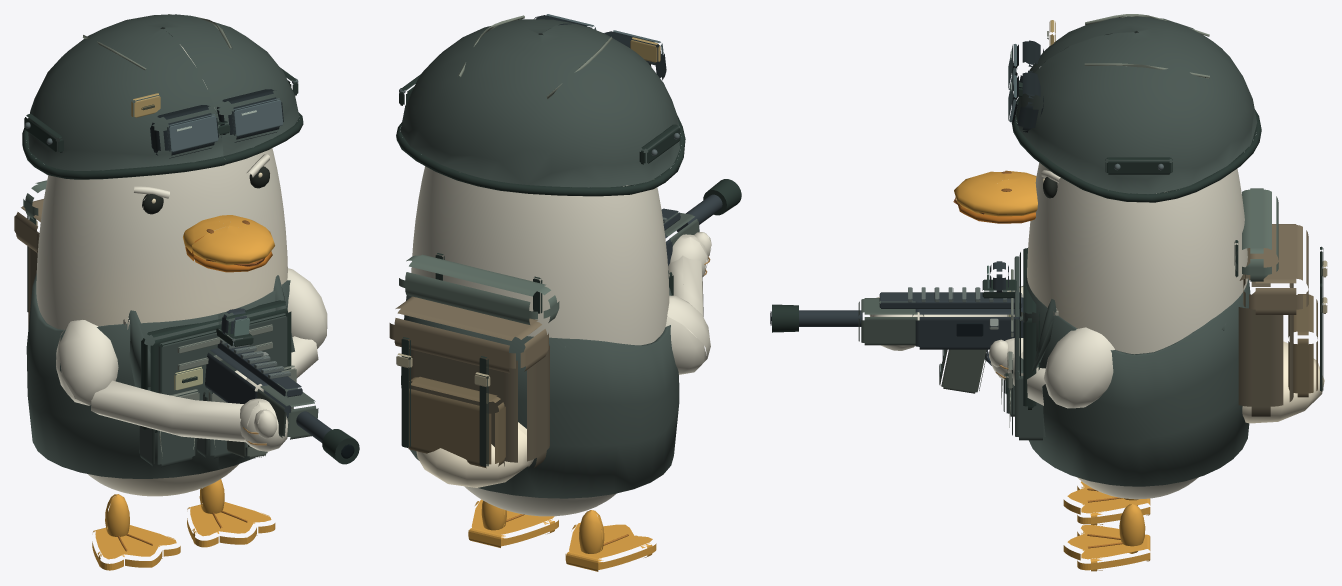
File: goose.glb
3 views of the same model, side by side, from view 1: azimuth 30°, elevation 25°; view 2: azimuth 150°, elevation 25°; view 3: azimuth 270°, elevation 25° (orthographic). The views are drawn at different scales.
Parts seen in each view (by area): view 1: goose_torso_mesh, goose_helmet_mesh, goose_vest_mesh, goose_weapon_mesh, goose_beak_mesh, goose_leftFoot_mesh, goose_rightFoot_mesh, goose_pack_mesh, goose_head_mesh; view 2: goose_helmet_mesh, goose_torso_mesh, goose_pack_mesh, goose_vest_mesh, goose_weapon_mesh, goose_leftFoot_mesh, goose_tail_mesh, goose_rightFoot_mesh; view 3: goose_helmet_mesh, goose_torso_mesh, goose_vest_mesh, goose_weapon_mesh, goose_pack_mesh, goose_beak_mesh, goose_rightFoot_mesh, goose_leftFoot_mesh, goose_tail_mesh.
Part boxes in pixels (box(x1,y1,x2,y2)): goose_torso_mesh: box(36, 44, 327, 496); goose_helmet_mesh: box(22, 14, 303, 179); goose_vest_mesh: box(26, 273, 296, 478); goose_weapon_mesh: box(91, 308, 359, 464); goose_beak_mesh: box(183, 215, 274, 272); goose_leftFoot_mesh: box(92, 494, 180, 570); goose_rightFoot_mesh: box(187, 479, 275, 547); goose_pack_mesh: box(14, 180, 46, 328); goose_head_mesh: box(134, 153, 269, 214); goose_helmet_mesh: box(396, 14, 685, 196); goose_torso_mesh: box(411, 166, 710, 516); goose_pack_mesh: box(389, 253, 559, 468); goose_vest_mesh: box(401, 270, 679, 498); goose_weapon_mesh: box(661, 179, 741, 337); goose_leftFoot_mesh: box(565, 510, 656, 571); goose_tail_mesh: box(416, 422, 533, 487); goose_rightFoot_mesh: box(468, 499, 558, 547); goose_helmet_mesh: box(1008, 14, 1261, 202); goose_torso_mesh: box(1027, 163, 1248, 499); goose_vest_mesh: box(1001, 247, 1250, 486); goose_weapon_mesh: box(770, 261, 1045, 405); goose_pack_mesh: box(1234, 188, 1327, 416); goose_beak_mesh: box(953, 170, 1037, 223); goose_rightFoot_mesh: box(1063, 504, 1150, 571); goose_leftFoot_mesh: box(1063, 481, 1150, 525); goose_tail_mesh: box(1242, 341, 1324, 423).
Size of the model in its own units: 1.1 by 2.03 by 2.06.
